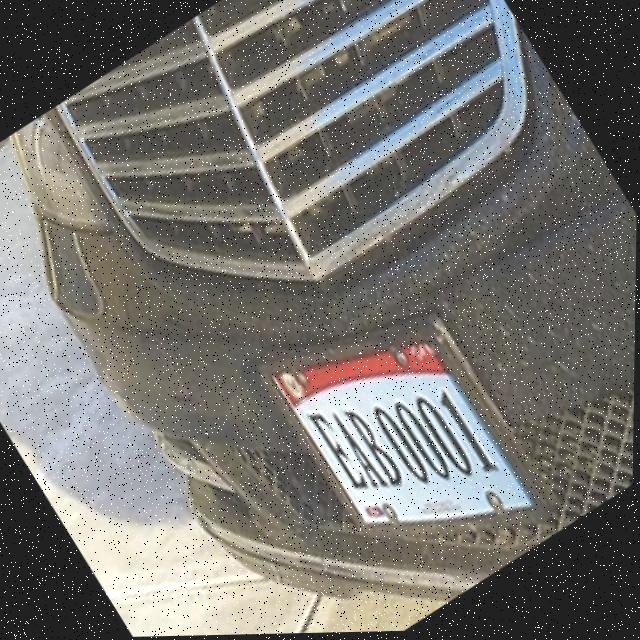license_plate: (259, 288, 526, 582)
